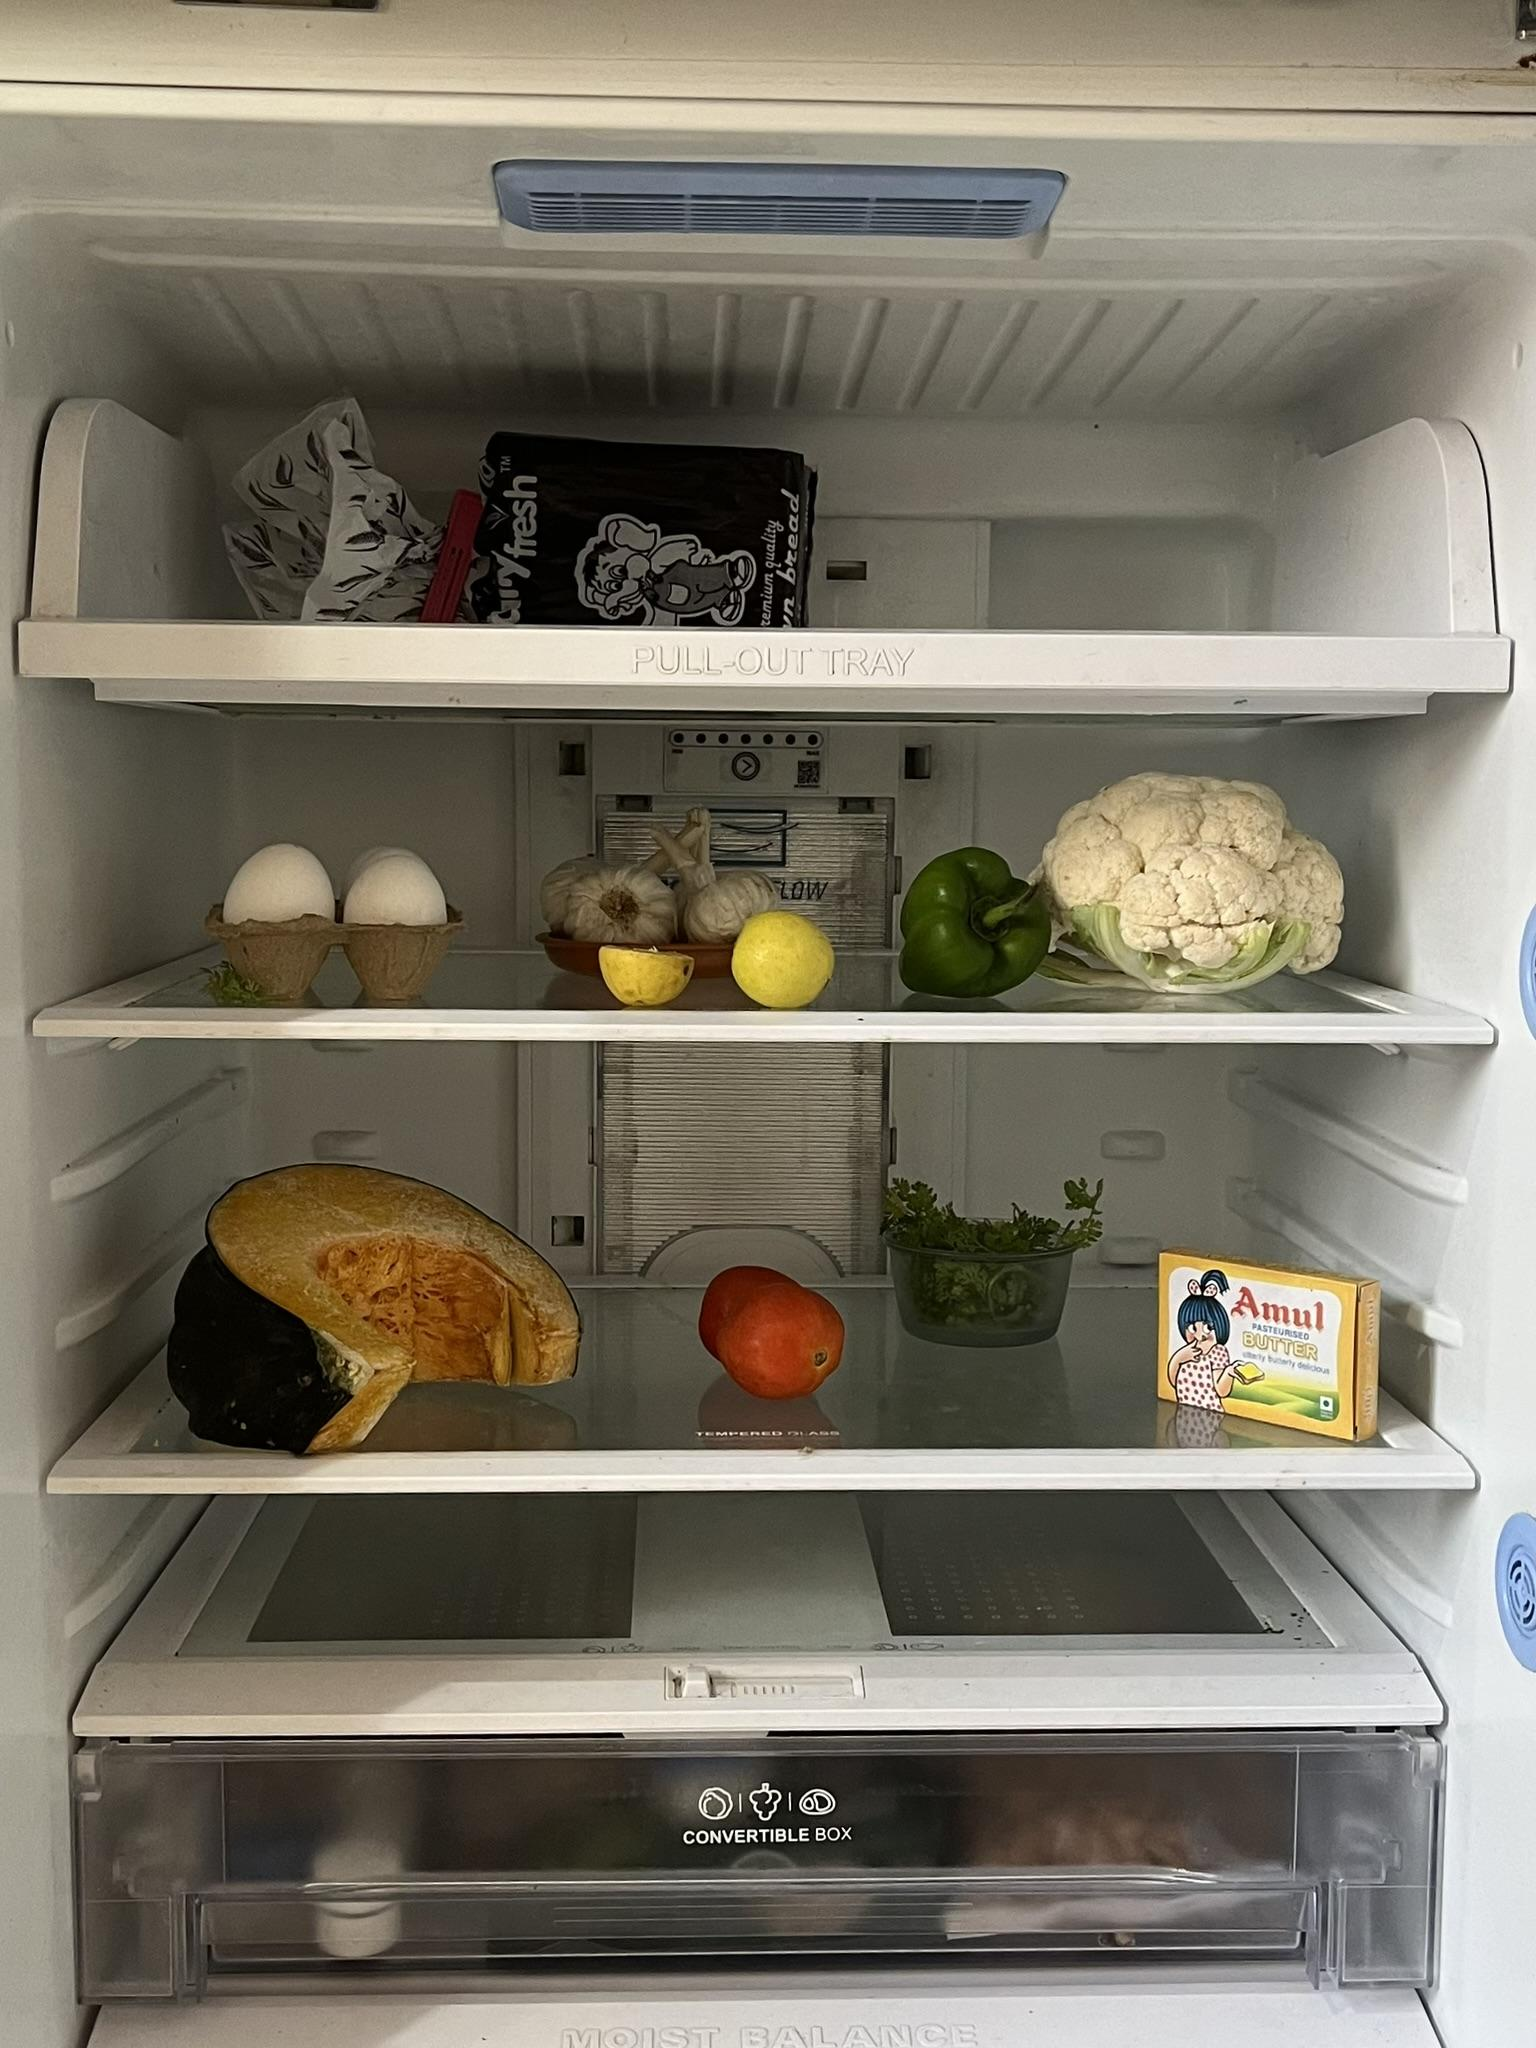bread: (234, 393, 807, 627)
butter: (1160, 1253, 1386, 1443)
capsicum: (904, 847, 1050, 993)
cauliflower: (1029, 769, 1347, 993)
coriander: (897, 1174, 1087, 1334)
egg: (231, 830, 450, 1006)
garlic: (544, 803, 760, 947)
lemon: (591, 906, 837, 1003)
pumpkin: (166, 1163, 587, 1459)
tomato: (703, 1263, 841, 1400)
